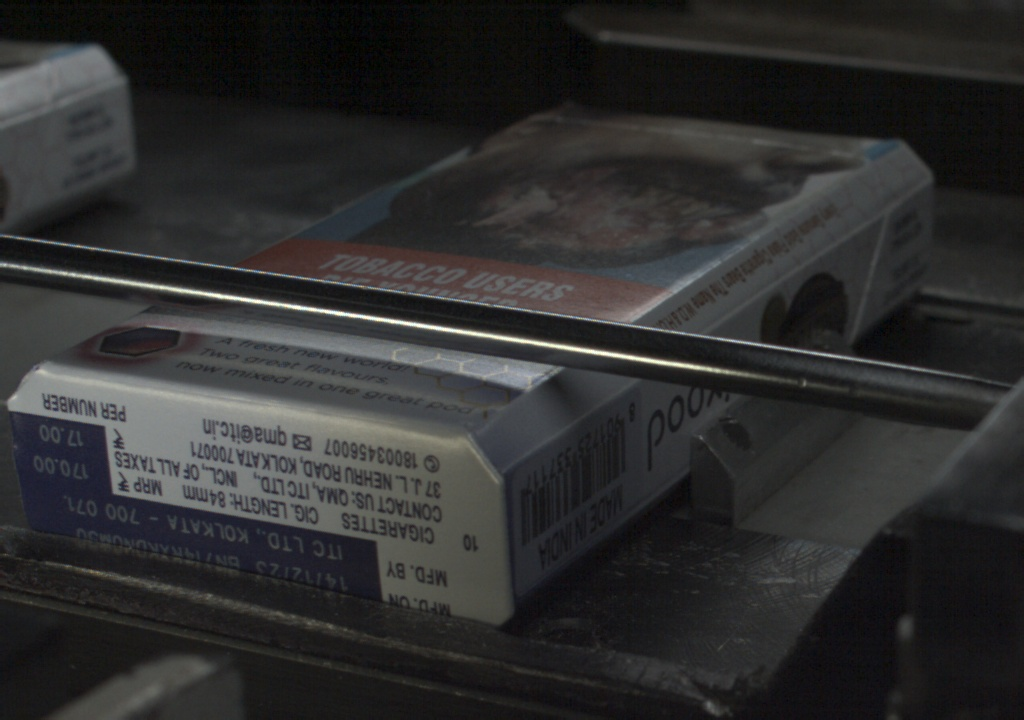g_bottom: (9, 363, 503, 627)
g_label: (22, 486, 380, 595)
g_lmiter: (703, 269, 796, 332), (795, 207, 883, 268), (506, 422, 573, 472), (573, 378, 635, 424)
g_miter: (884, 172, 939, 205)
price: (10, 413, 107, 487)
